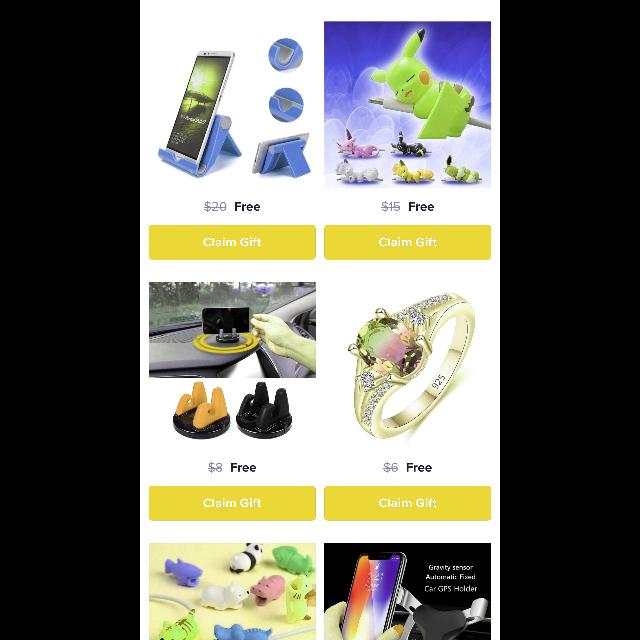image: (325, 22, 491, 188), (148, 282, 316, 440), (158, 38, 312, 178), (348, 293, 476, 439), (324, 542, 492, 640), (148, 544, 316, 640)
text: (204, 200, 226, 212), (236, 202, 260, 212), (410, 202, 434, 212), (406, 463, 432, 472), (232, 463, 256, 472), (382, 202, 401, 212), (384, 462, 398, 472), (208, 462, 222, 472)
textbutton: (324, 224, 492, 260), (148, 486, 316, 520), (324, 486, 492, 520), (149, 226, 315, 260)
